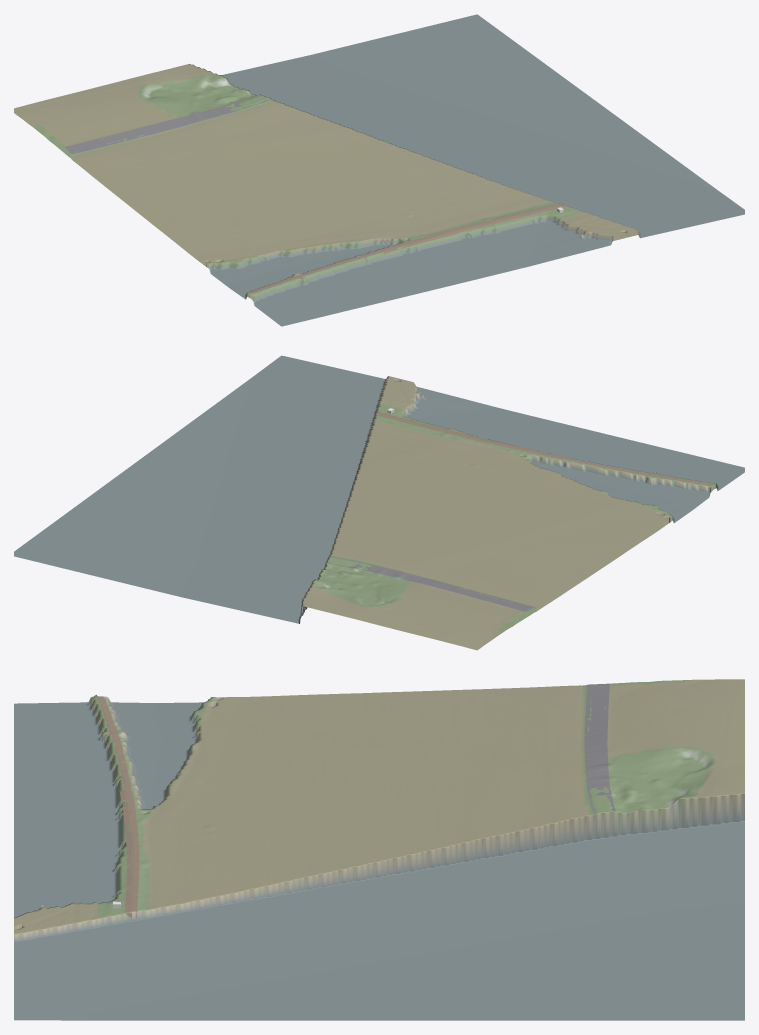
3 renders of one model, top to bottom at view 1: azimuth 30°, elevation 25°; view 2: azimuth 150°, elevation 25°; view 3: azimuth 270°, elevation 25°, orthographic. The views are drawn at different scales.
Parts seen in each view (by area): view 1: prim0, prim2, prim3; view 2: prim0, prim2, prim3; view 3: prim0, prim2, prim3.
Part boxes in pixels (bbox=[...]): prim0: bbox=[14, 14, 744, 326]; prim2: bbox=[65, 95, 270, 154]; prim3: bbox=[249, 203, 567, 298]; prim0: bbox=[14, 355, 744, 650]; prim2: bbox=[327, 556, 534, 611]; prim3: bbox=[376, 411, 712, 485]; prim0: bbox=[14, 679, 744, 1020]; prim2: bbox=[584, 683, 616, 813]; prim3: bbox=[90, 694, 139, 918].
Size of the model in its own units: 514 by 28.65 by 512.
